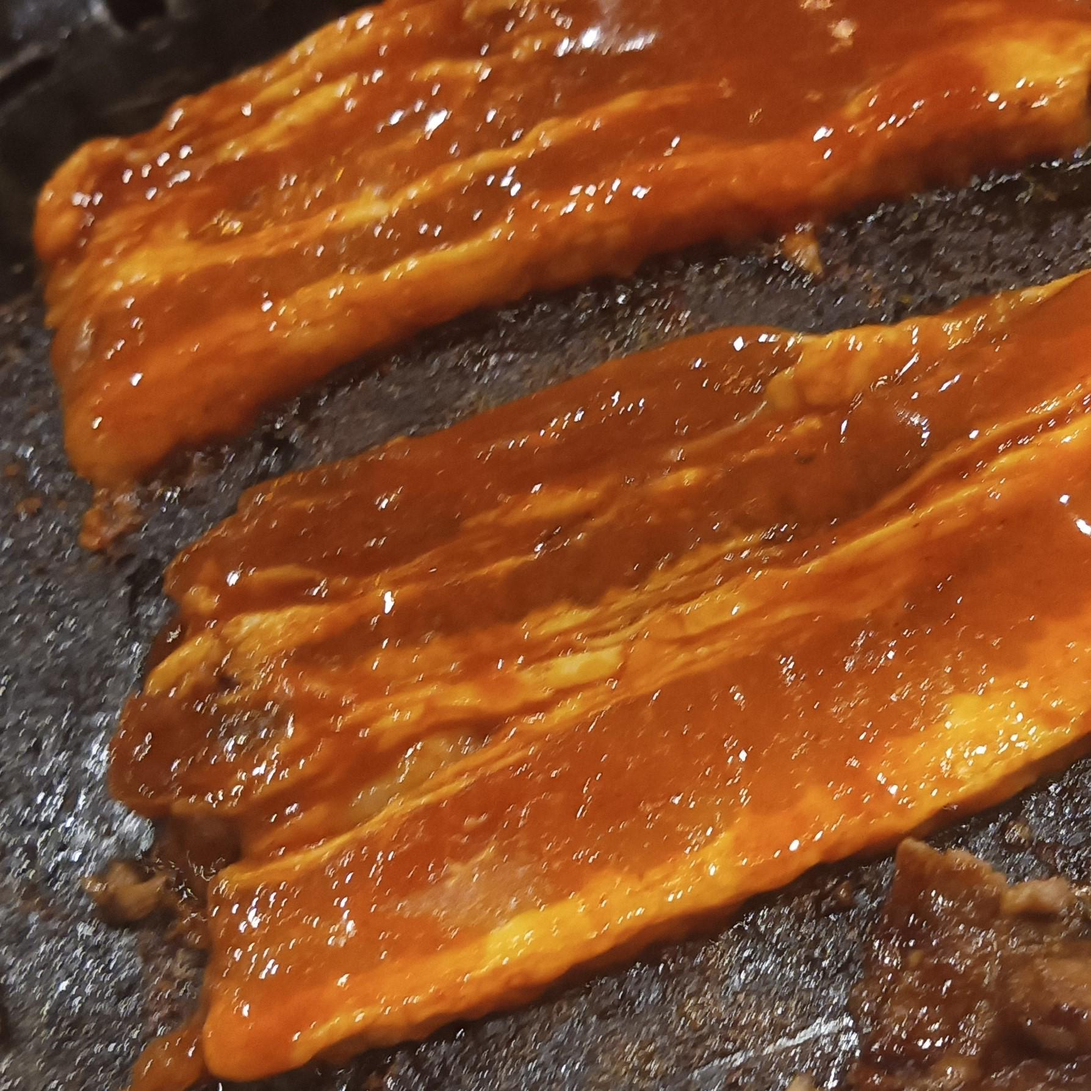Undercooked: (109, 273, 1090, 1079), (34, 0, 1090, 488)
